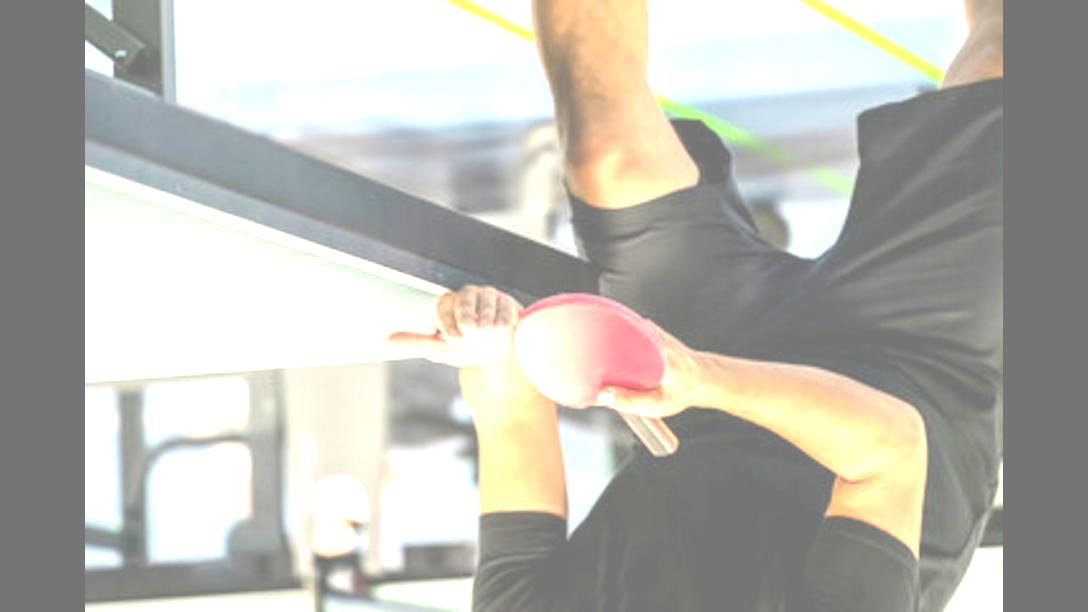Table-Tennis-Ball: (462, 333, 500, 357)
